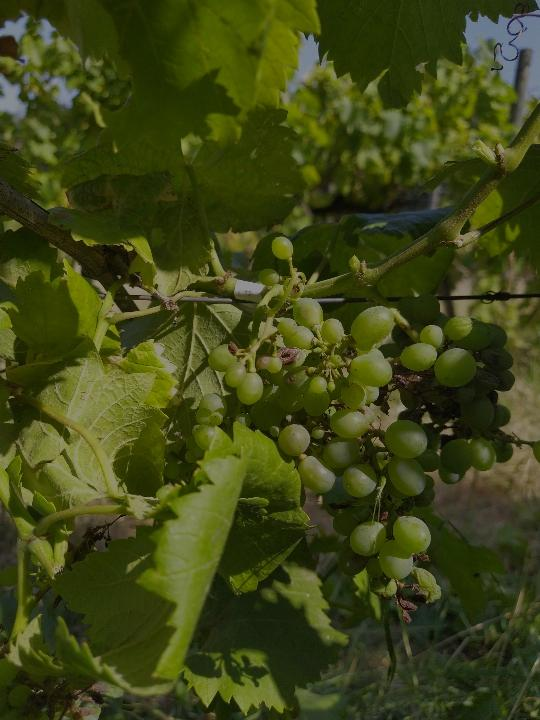grape: (204, 233, 519, 627)
